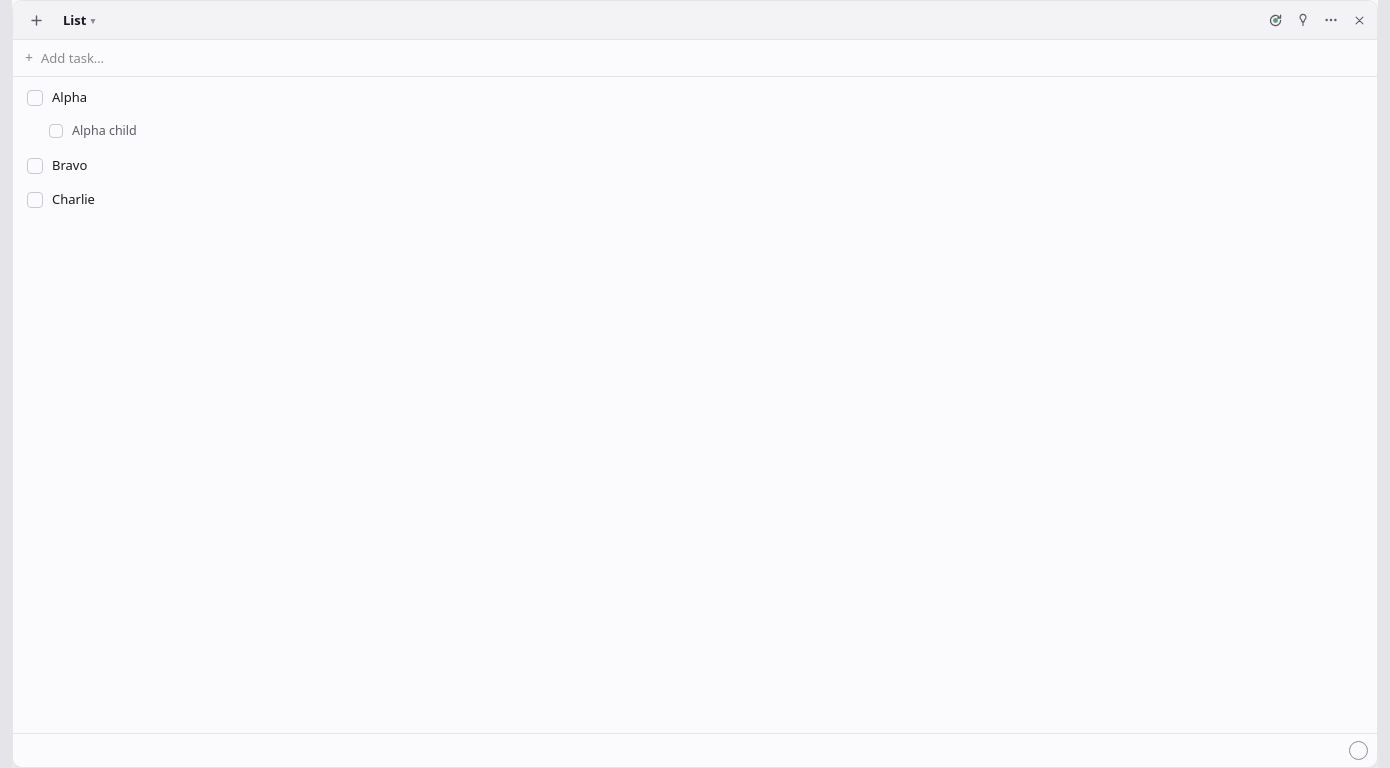
Test: TaskWidget group delete › names the subtasks that go with a selected parent
The image size is (1390, 768).
Click the text "Alpha": (70, 97) x1=52 y1=88 x2=87 y2=106
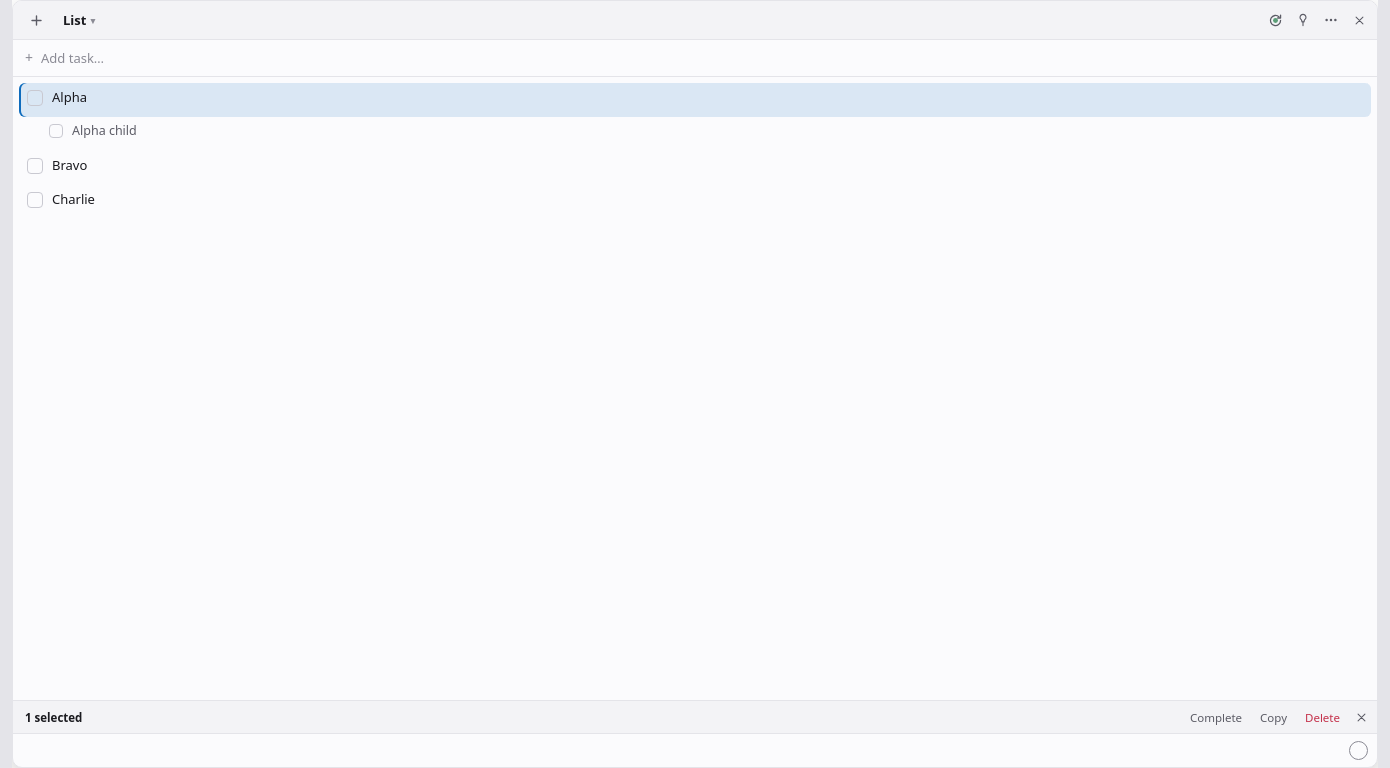
Press Delete
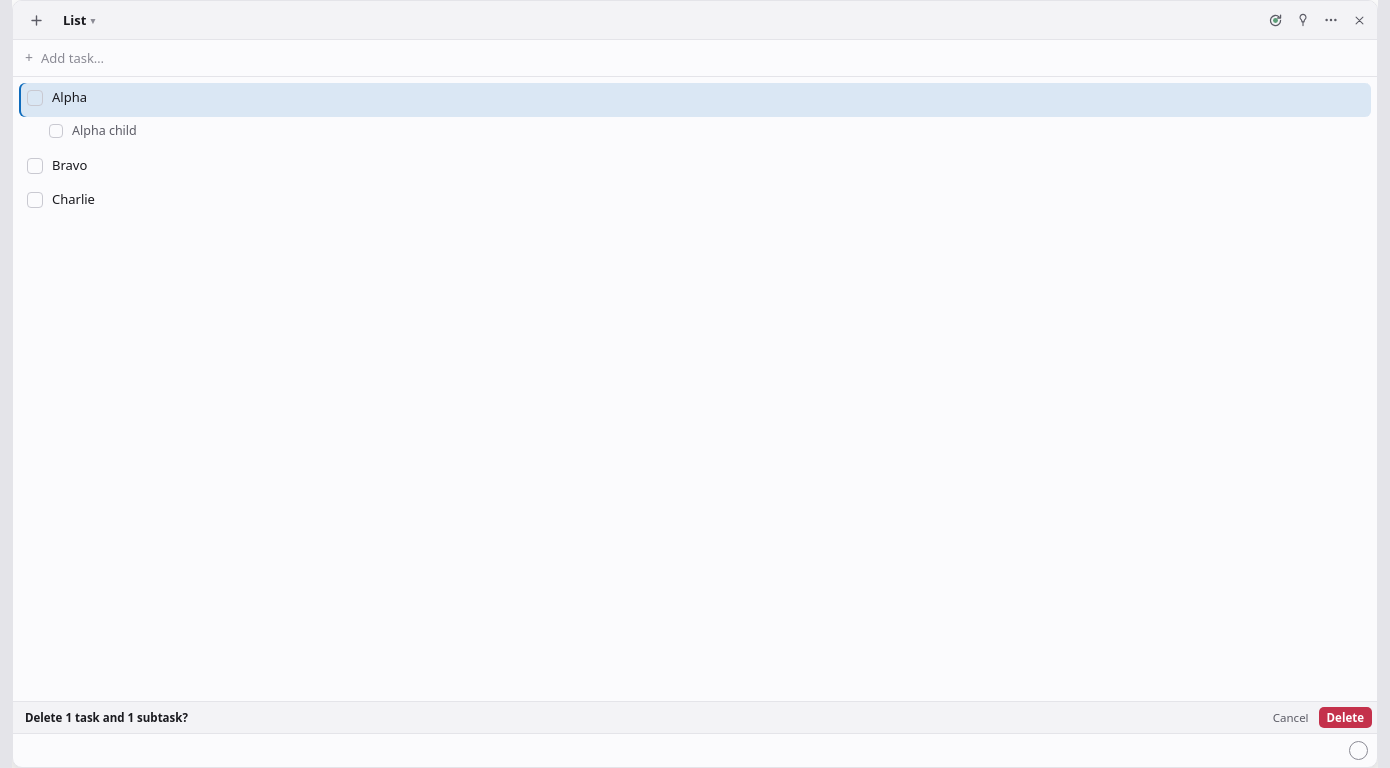
Now the message reads "Delete 1 task and 1 subtask?", box x1=25 y1=710 x2=188 y2=725
